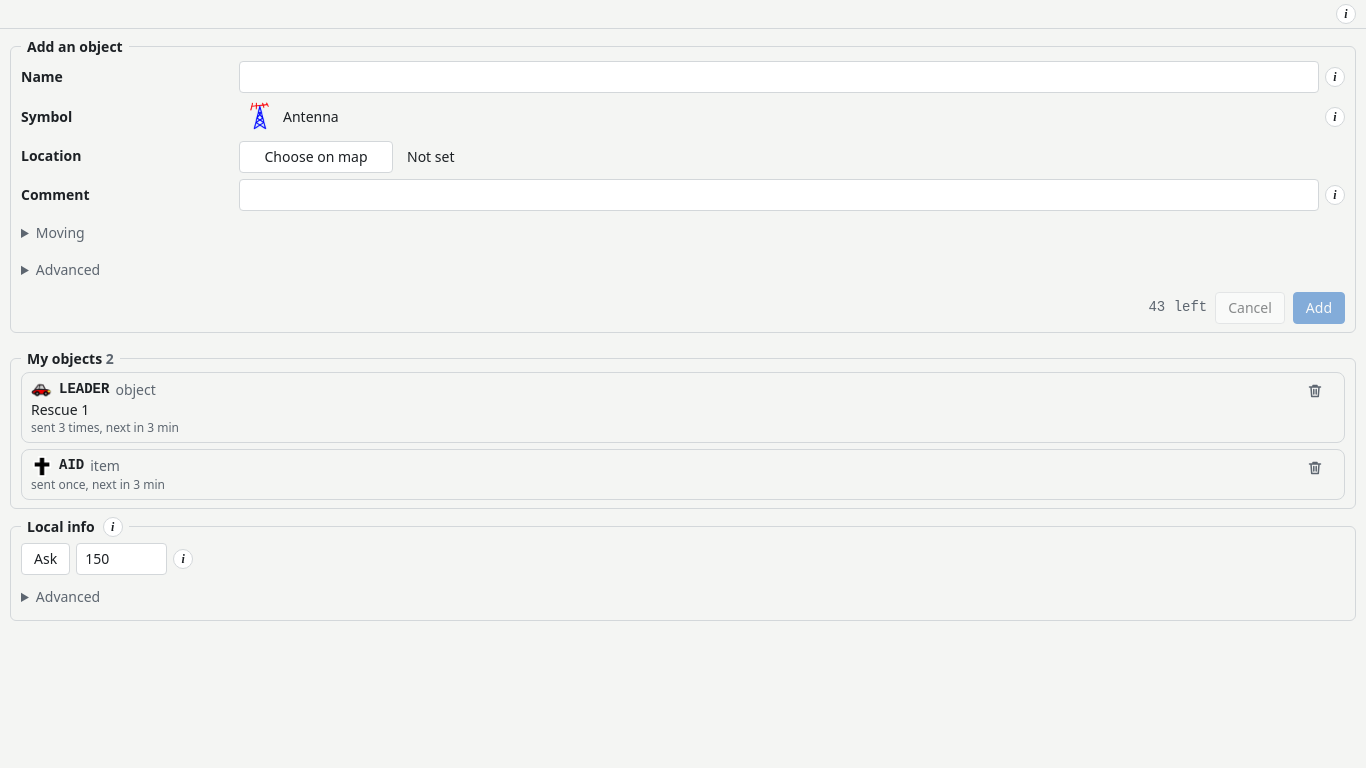
Test: ObjectsPane › leaves the selection and clears the form with the Cancel button, for a screen without Esc
Click the list item with class "ownobject" that starts with "LEADER".
click(683, 408)  # box [21,372,1345,443]
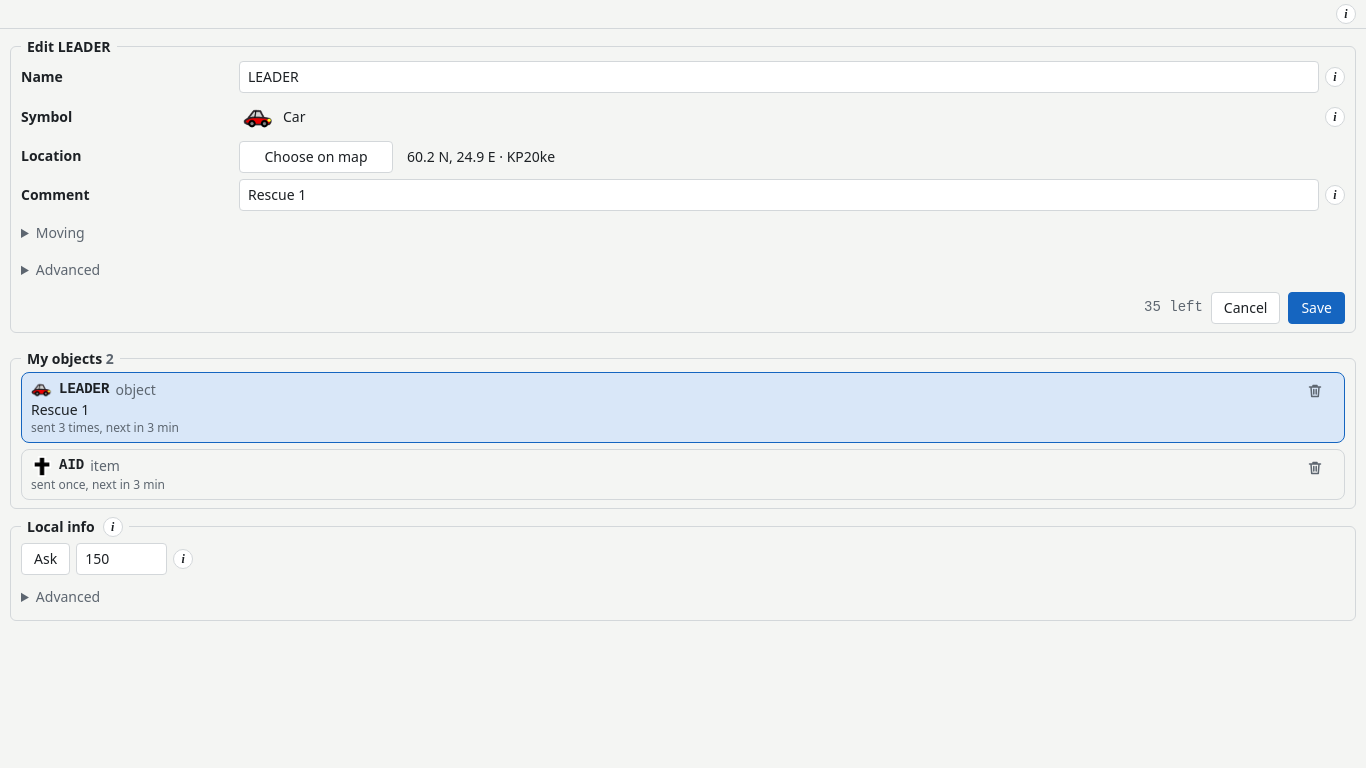
Click the button "Cancel".
click(1246, 308)  # box [1211,292,1280,324]
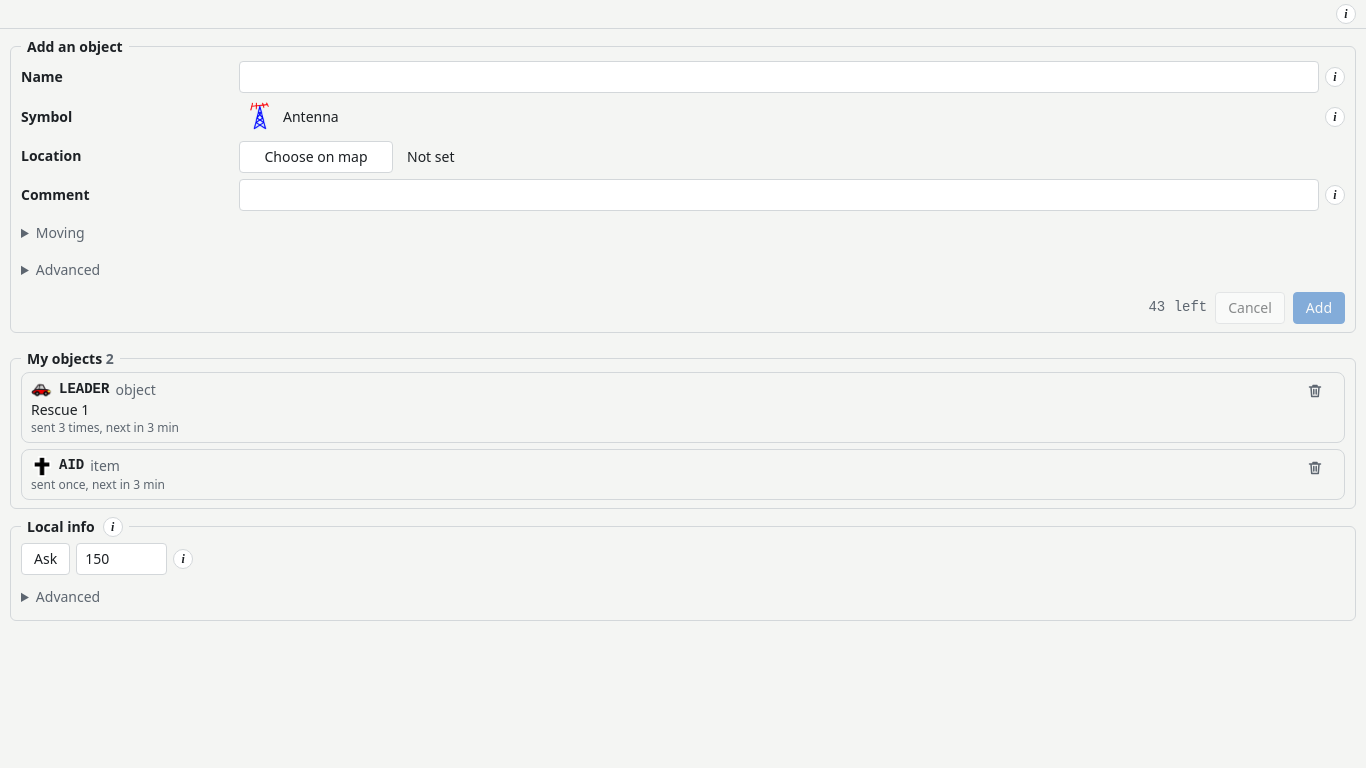
Expected: the field labelled "Name" is empty, [239,61,1319,93]
